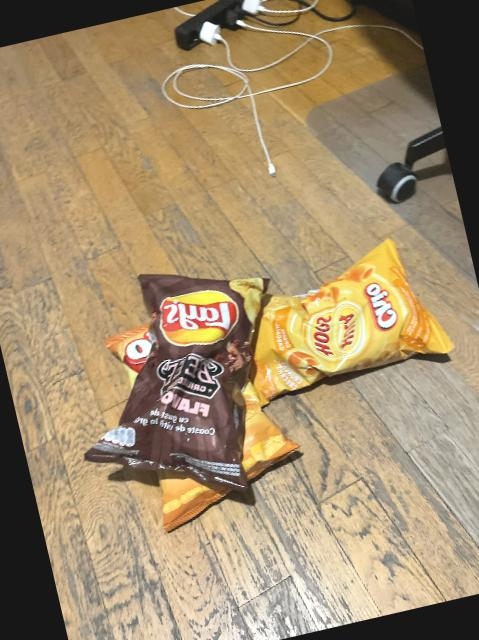Chio Cascaval 125g: (103, 292, 315, 530)
Chio Hula Hoops Cheese 70g: (232, 230, 456, 396)
Lays Beef Grilled Ribs 125g: (46, 244, 318, 538)
